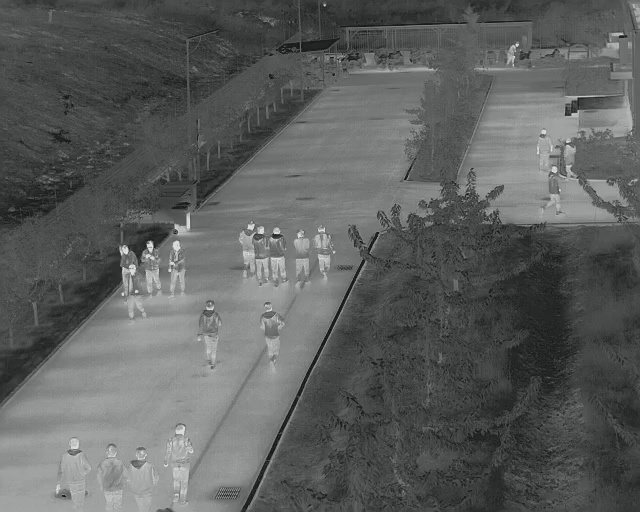person: (55, 433, 93, 510), (164, 418, 195, 506), (97, 441, 130, 510), (126, 442, 158, 510), (197, 295, 224, 371), (260, 298, 287, 369), (312, 222, 340, 281), (123, 263, 147, 324), (268, 225, 290, 287), (540, 166, 566, 217), (168, 238, 189, 300), (294, 227, 314, 292), (141, 239, 163, 296), (238, 217, 256, 278), (252, 225, 270, 286), (561, 137, 579, 183), (536, 127, 551, 168), (505, 40, 520, 68)
